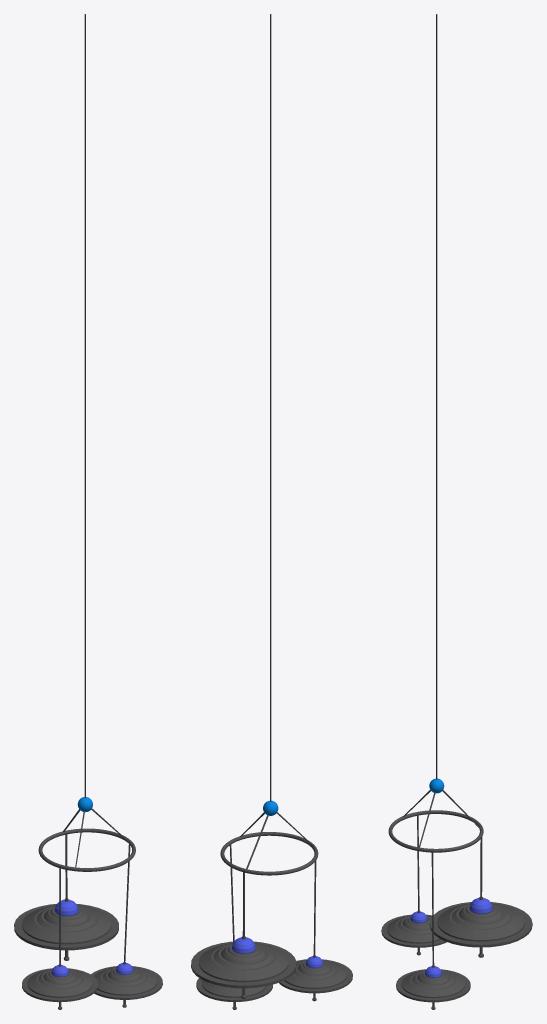
The model's file is UFO.fbx.
3 renders of one model, left to right at view 1: azimuth 30°, elevation 25°; view 2: azimuth 150°, elevation 25°; view 3: azimuth 270°, elevation 25°, orthographic. The views are drawn at different scales.
Parts seen in each view (by area): view 1: Cylinder.002; view 2: Cylinder.002; view 3: Cylinder.002.
Boxes of the visible parts, x1=… form: Cylinder.002: x1=14, y1=14, x2=162, y2=1009; Cylinder.002: x1=191, y1=14, x2=352, y2=1009; Cylinder.002: x1=381, y1=14, x2=532, y2=1009.
Size of the model in its own units: 12675 by 87662 by 12279.
